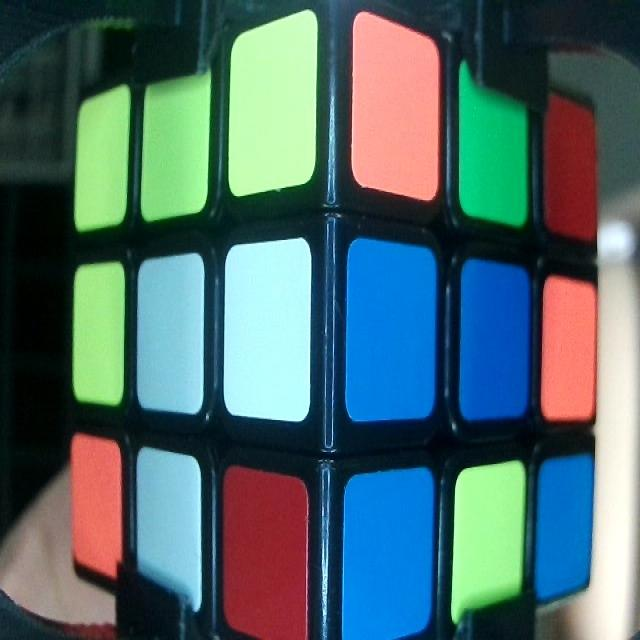b: (350, 263, 435, 406), (348, 487, 432, 623), (463, 276, 526, 410), (540, 468, 588, 585)
g: (462, 97, 528, 214)
o: (357, 41, 440, 176), (546, 288, 592, 414), (73, 445, 119, 555)
r: (223, 488, 309, 625), (546, 112, 593, 230)
w: (226, 257, 312, 404), (136, 464, 202, 594), (139, 271, 203, 388)
y: (231, 46, 311, 174), (458, 477, 520, 603), (146, 90, 207, 196), (76, 277, 123, 393), (78, 115, 125, 216)
